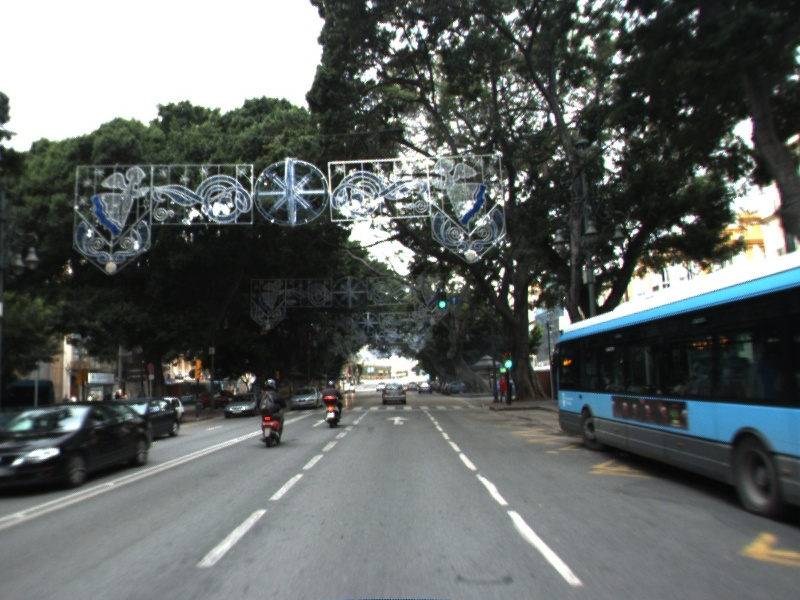STRAIGHT: (385, 414, 412, 427), (309, 417, 329, 429)
